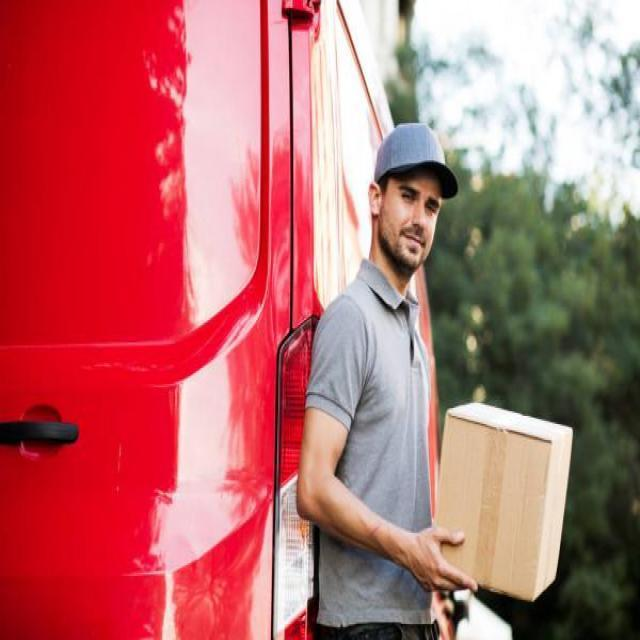box: (437, 394, 572, 610)
